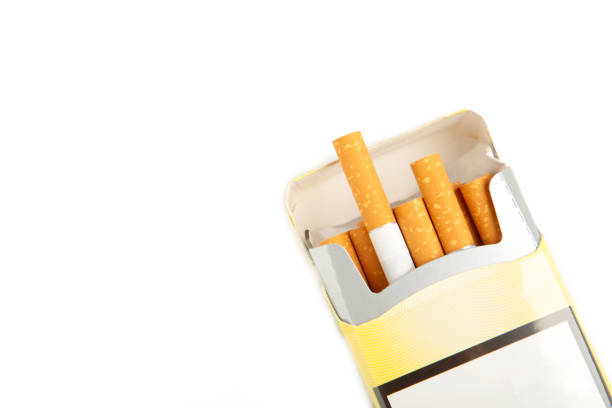cigarette: (283, 107, 612, 408), (331, 128, 416, 287), (409, 152, 485, 256), (393, 197, 445, 268), (459, 172, 507, 245), (347, 223, 393, 293), (320, 232, 372, 289), (451, 180, 484, 246)
